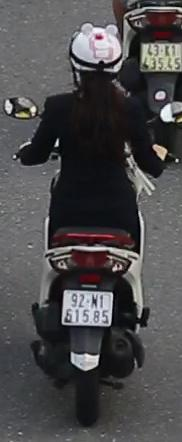LP: (60, 285, 116, 329)
helmet: (68, 18, 124, 98)
